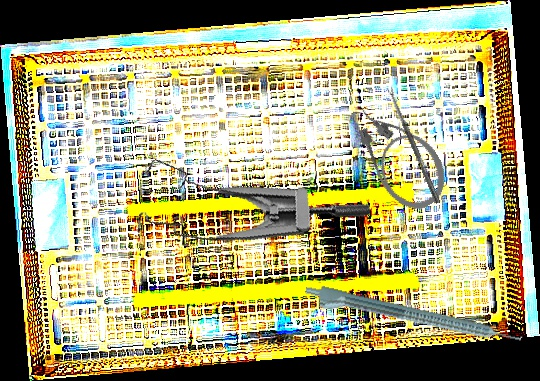Cannula: (343, 87, 458, 221)
Handpiece: (302, 282, 523, 356)
Speculum: (120, 108, 373, 277)
Surgical Spoon: (386, 85, 442, 205)
